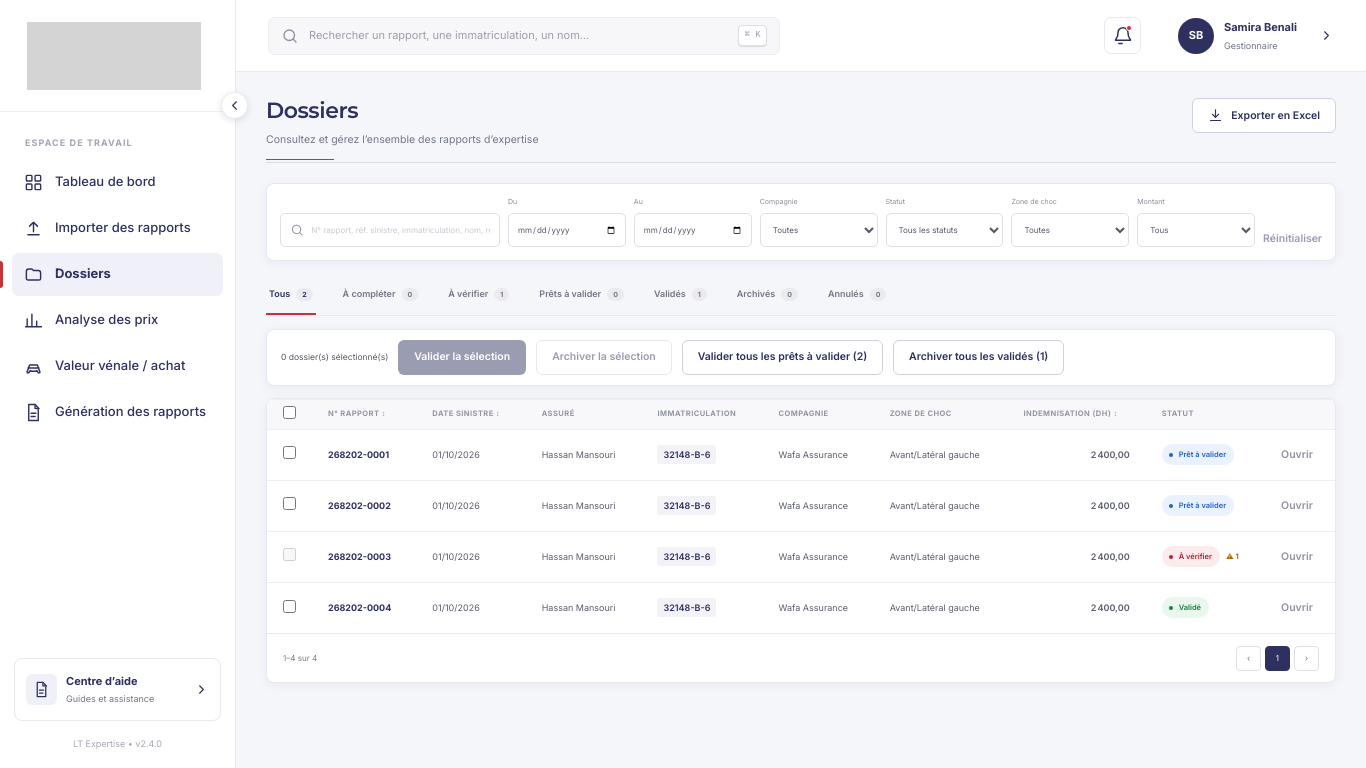
Test: validation en lot › valide les dossiers cochés après confirmation
This screenshot has width=1366, height=768.
What coordinates should you click on to do the following:
click the checkbox named "Cocher 268202-0001"
I would click on:
 (290, 453)
Its box is [283,446,296,459].
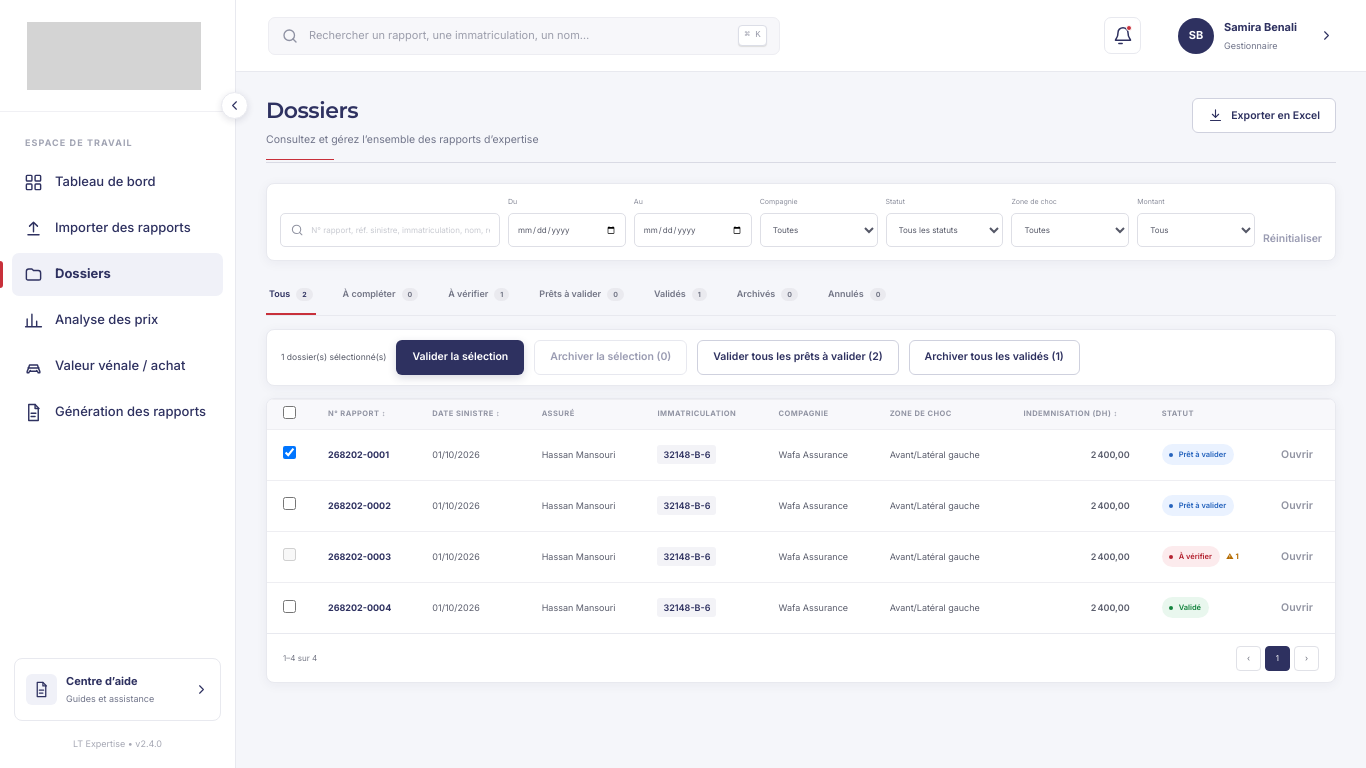
What coordinates should you click on to do the following:
click the checkbox named "Cocher 268202-0002"
I would click on:
 (290, 504)
Its box is [283,497,296,510].
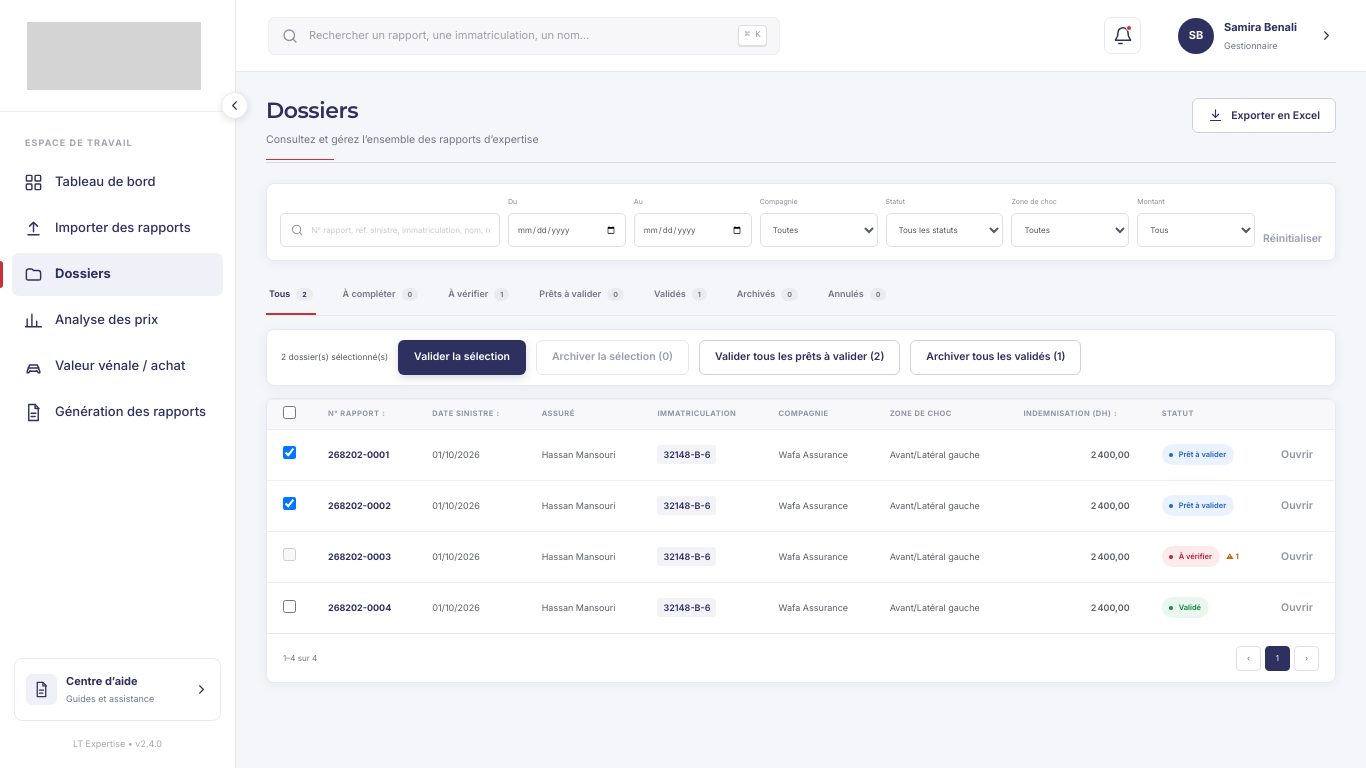
Expected: the checkbox named "Cocher 268202-0003" is disabled, [283,548,296,561]
What coordinates should you click on to do the following:
click the button "Valider la sélection"
I would click on:
 (462, 357)
Its box is [398,340,526,374].
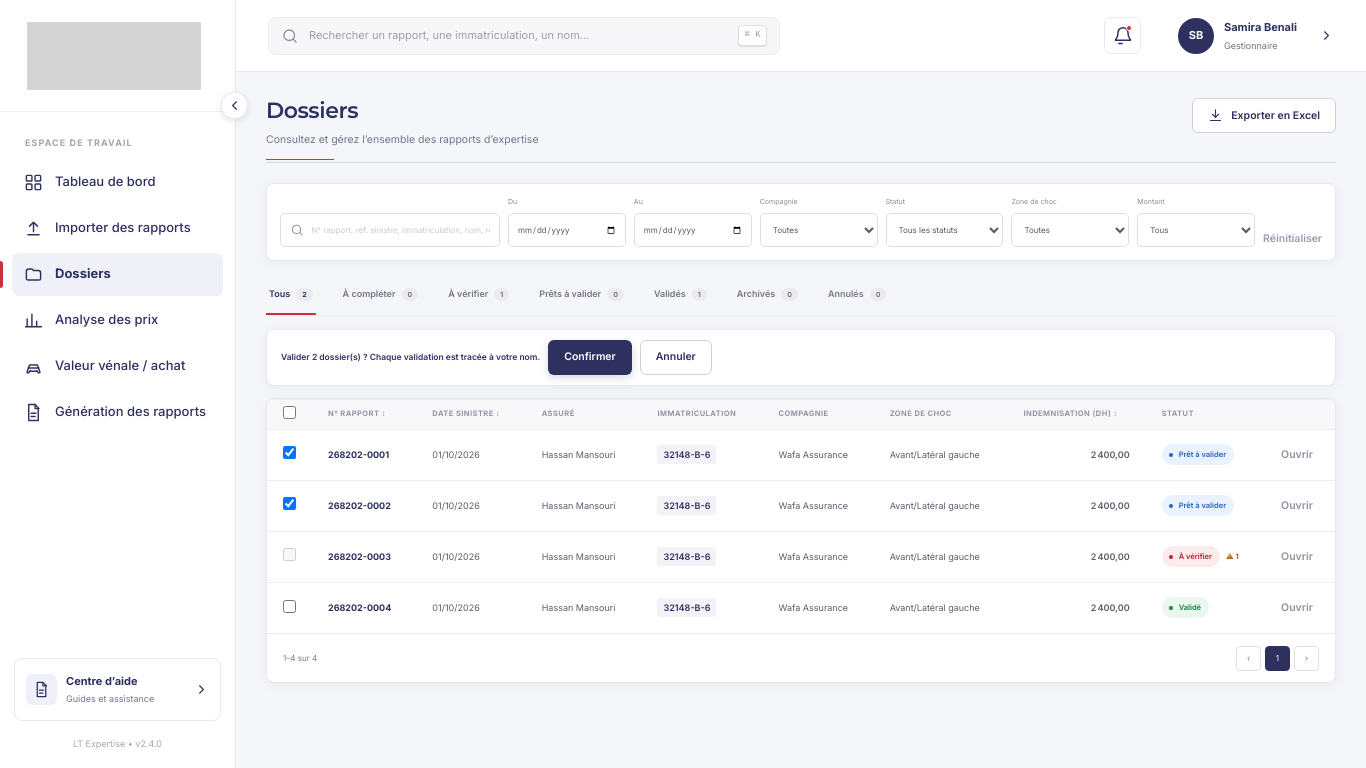
Expected: the text "Valider 2 dossier(s) ?" is shown, [281,352,540,362]
What coordinates should you click on to do the following:
click the button "Confirmer"
I would click on:
 (590, 357)
Its box is [548,340,632,374].
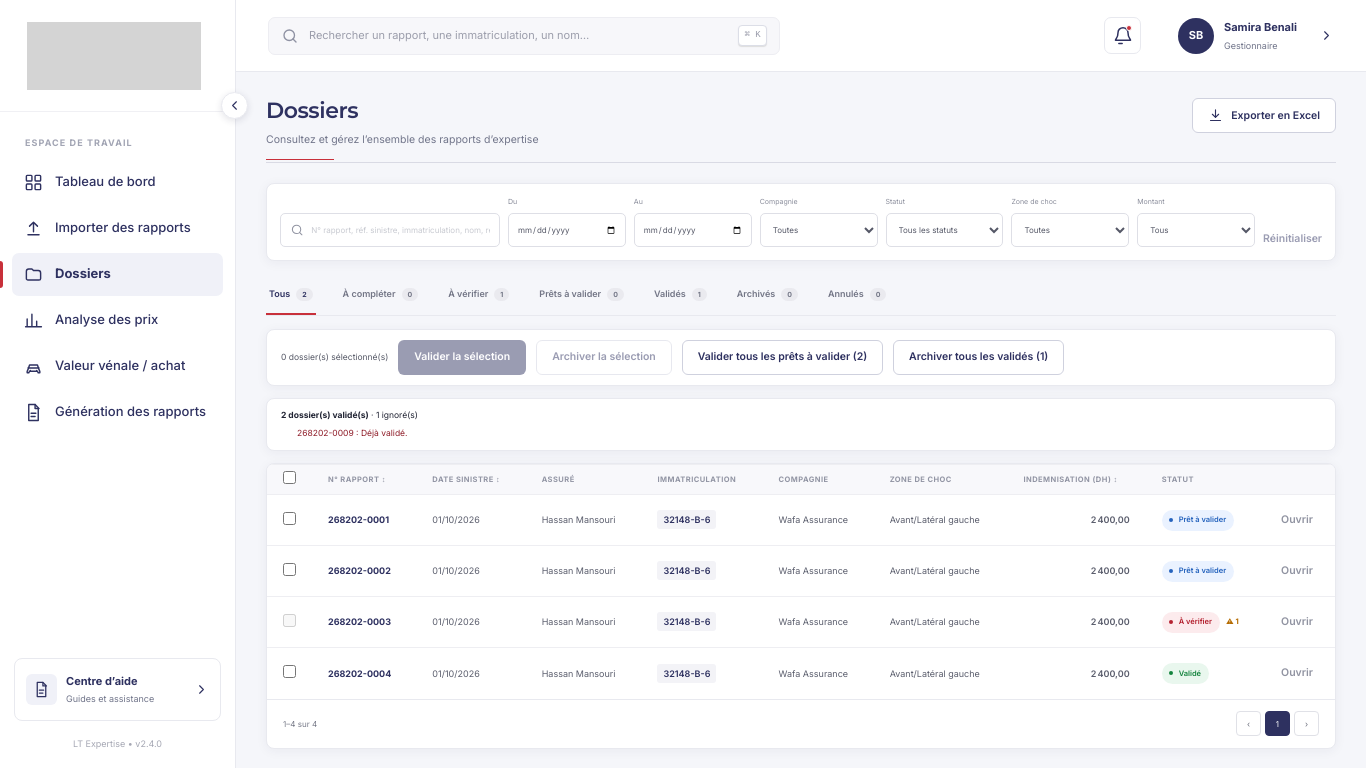
Expected: the text "2 dossier(s) validé(s)" is shown, [281,410,369,420]
Expected: the list item "268202-0009 : Déjà validé." is shown, [297,428,408,438]
